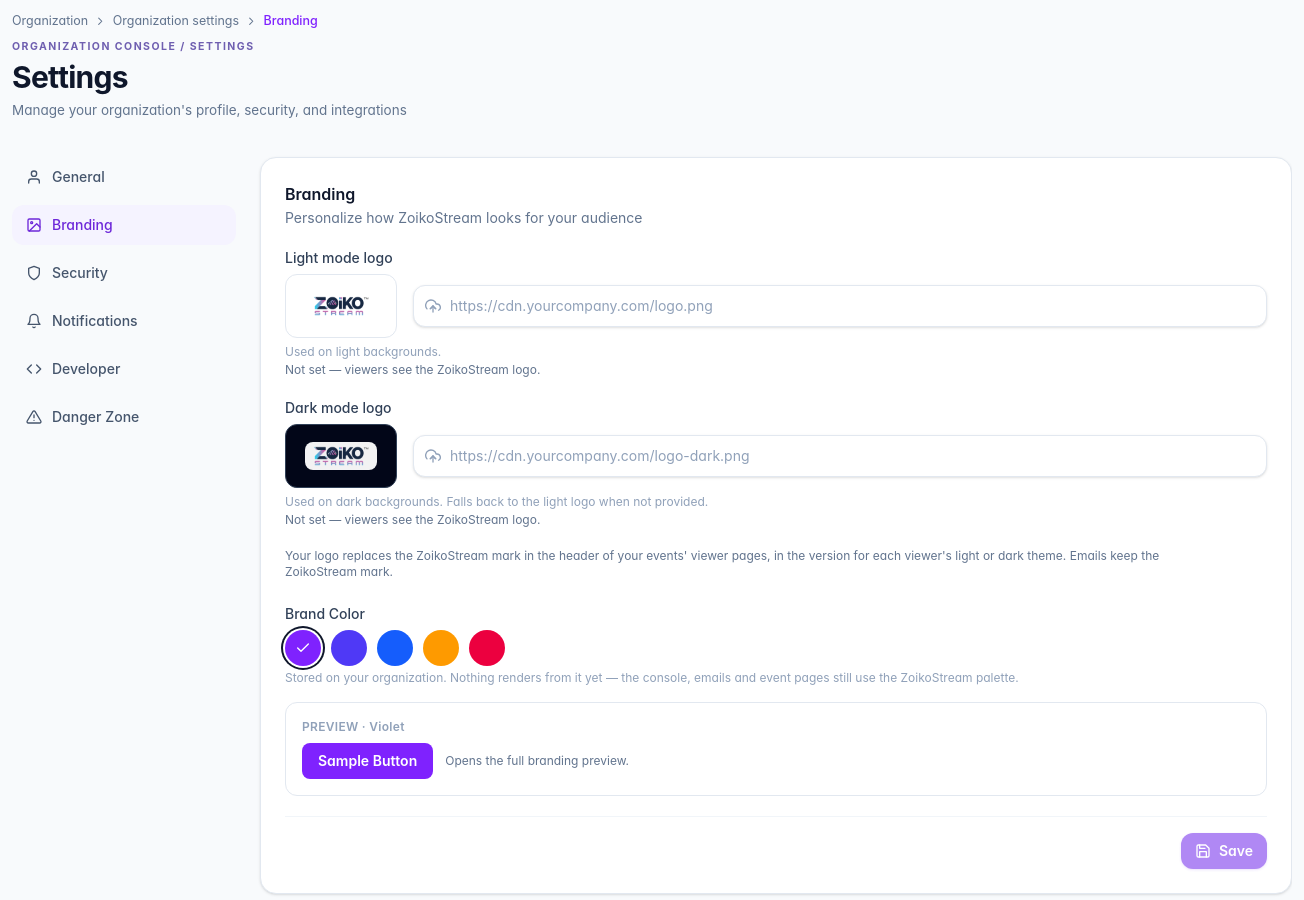
Test: saving state › names every section with unsaved edits in the header
Click the button named "indigo" at (349, 648), box [331,630,367,666]
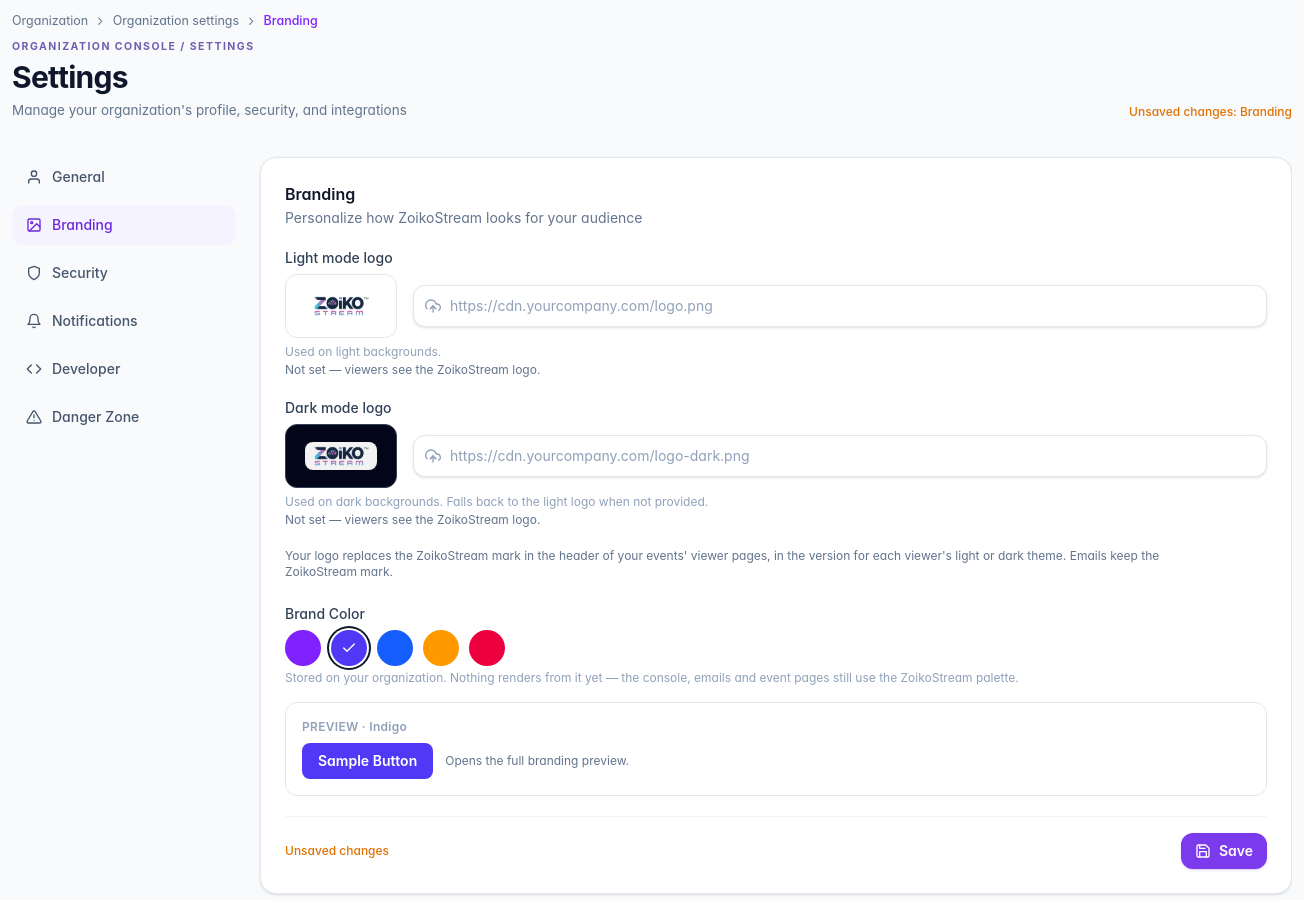
Click the button "Notifications" at (124, 321), box [12,301,236,341]
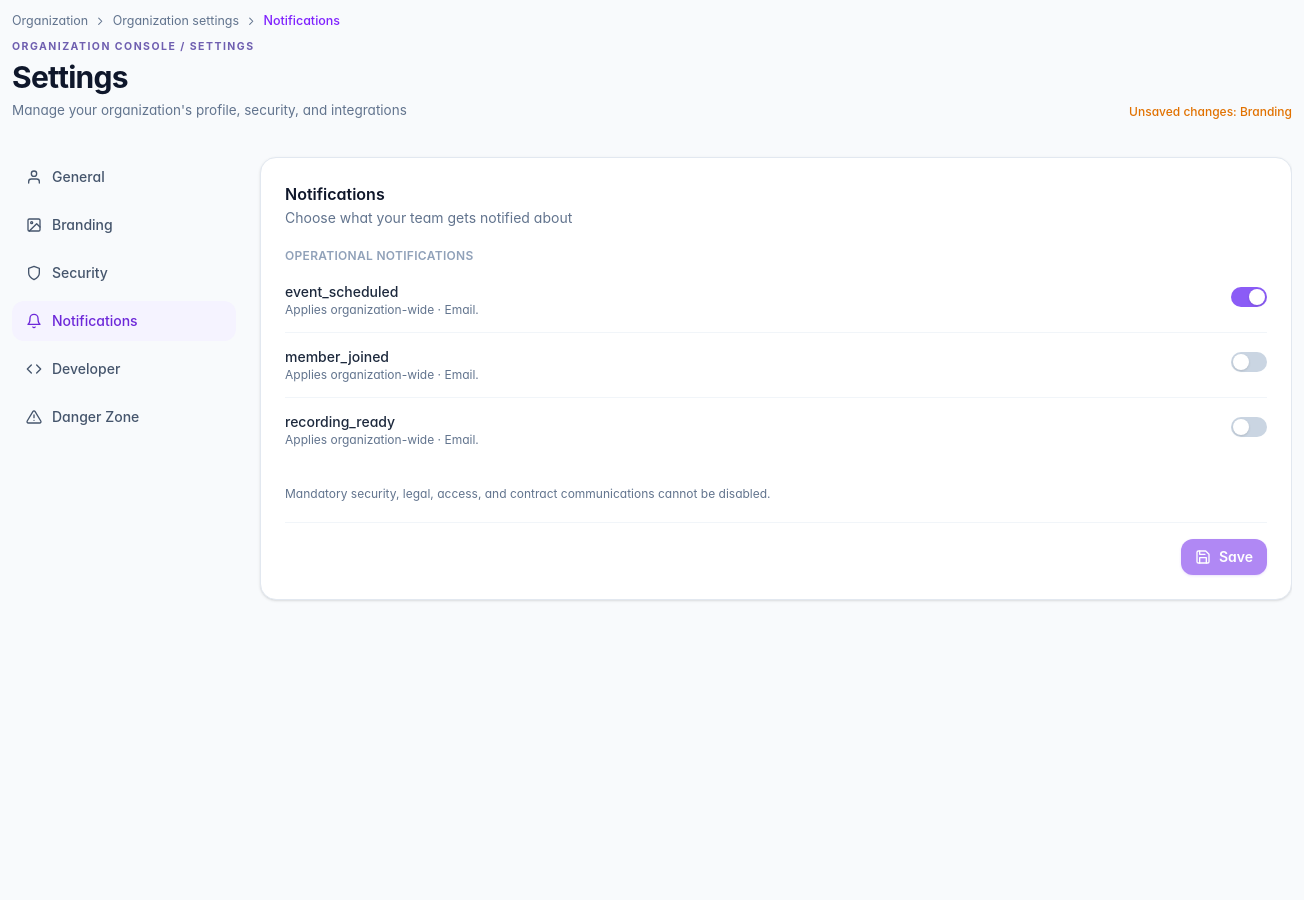
Click the switch in the row of "event_scheduled" at (1249, 297), box [1231,287,1267,307]
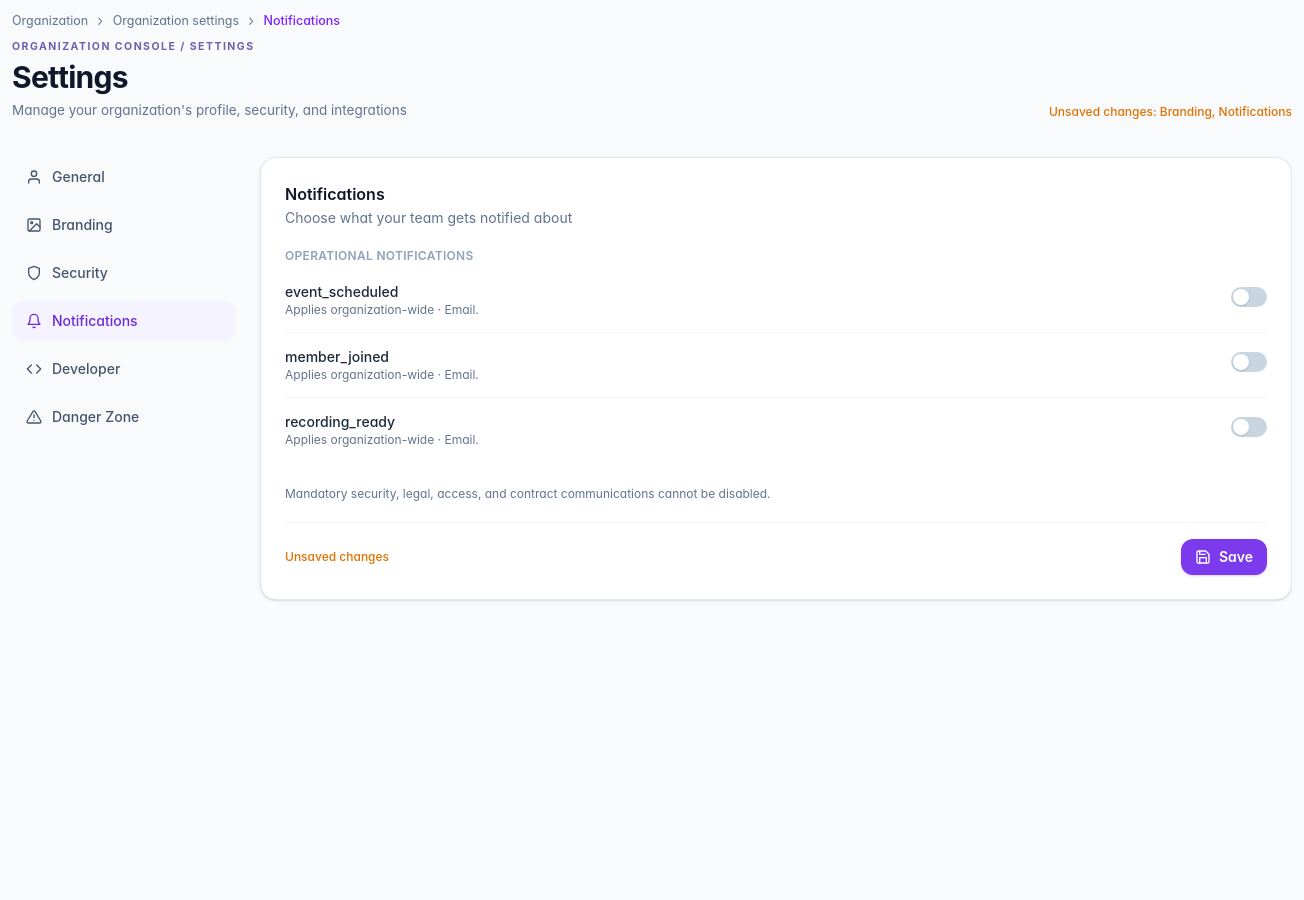
Expected: the text with test id "unsaved-summary" shows "Branding, Notifications", [1160,104,1292,119]
